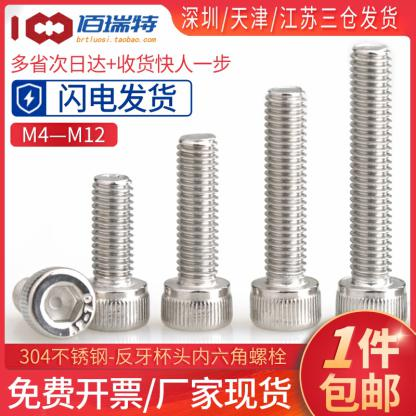FOD: (334, 43, 408, 331), (247, 88, 323, 332), (158, 132, 236, 334), (72, 173, 151, 332), (12, 268, 97, 340)
